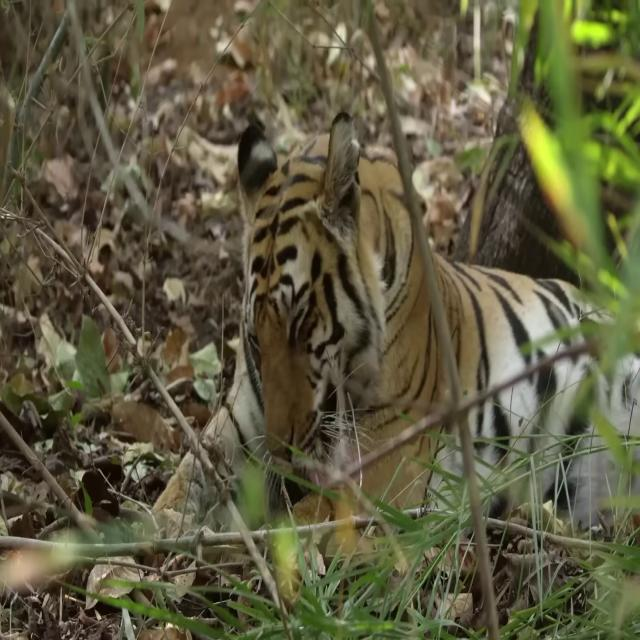tiger: (151, 109, 640, 536)
